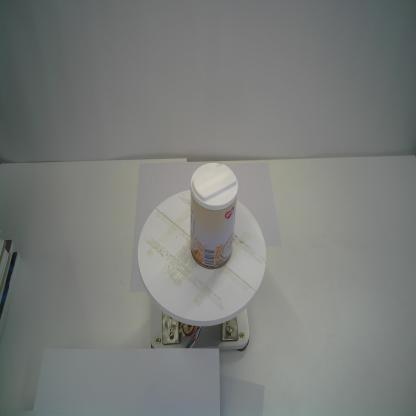Canned Food: (190, 162, 238, 270)
